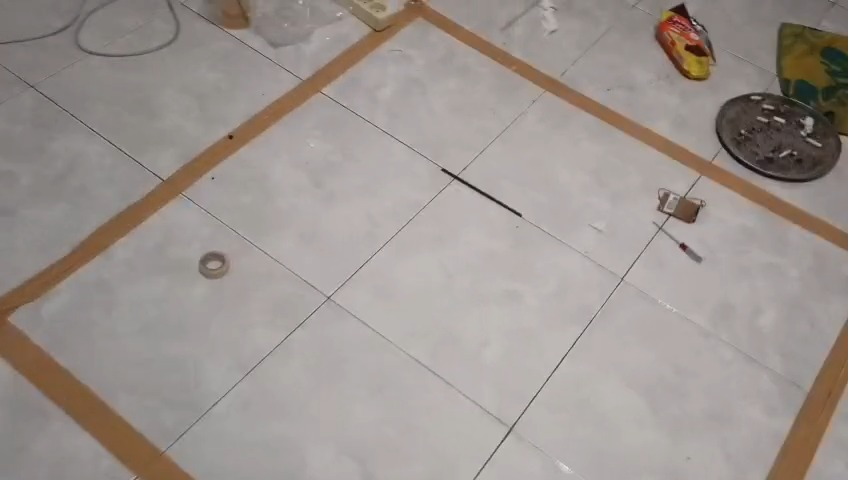floor marking: (0, 2, 847, 479), (768, 326, 847, 479)
